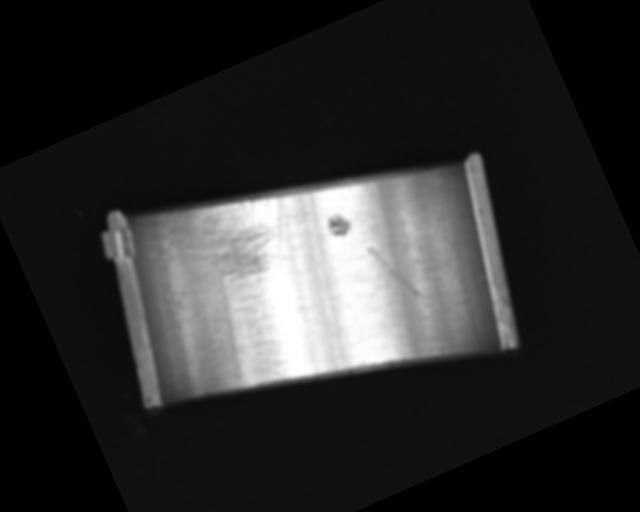bruise: (324, 210, 355, 240)
nick: (302, 248, 371, 369), (366, 233, 425, 312)
scratch: (164, 168, 311, 308)
